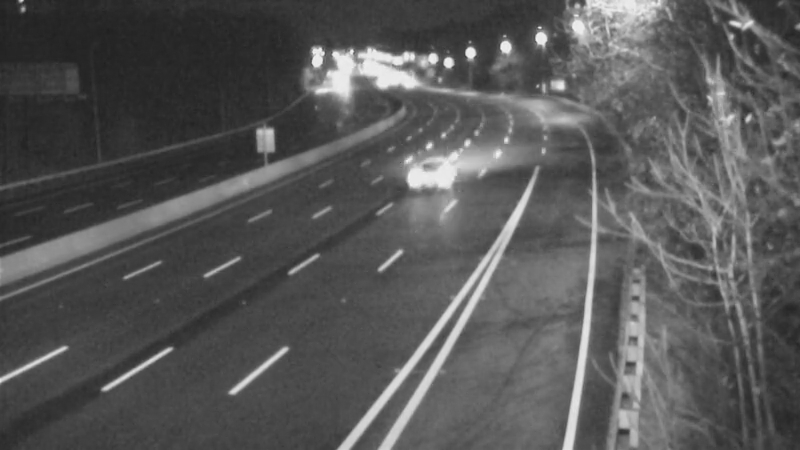vehicle: (397, 129, 477, 209)
